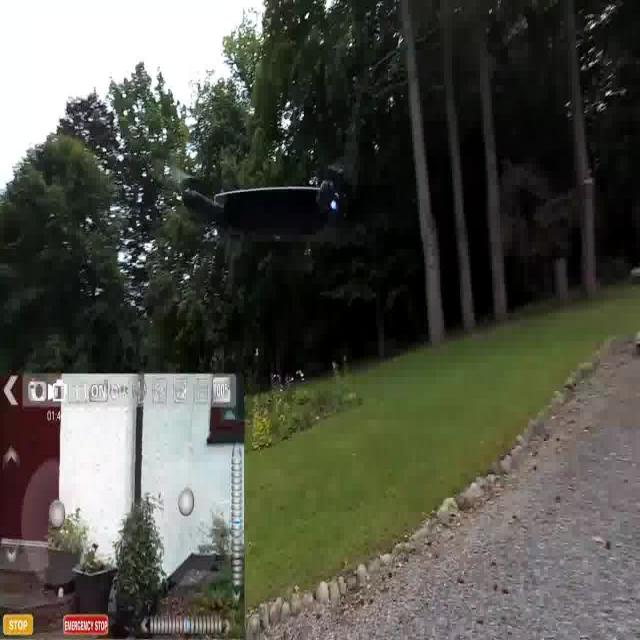drones: (142, 141, 370, 269)
